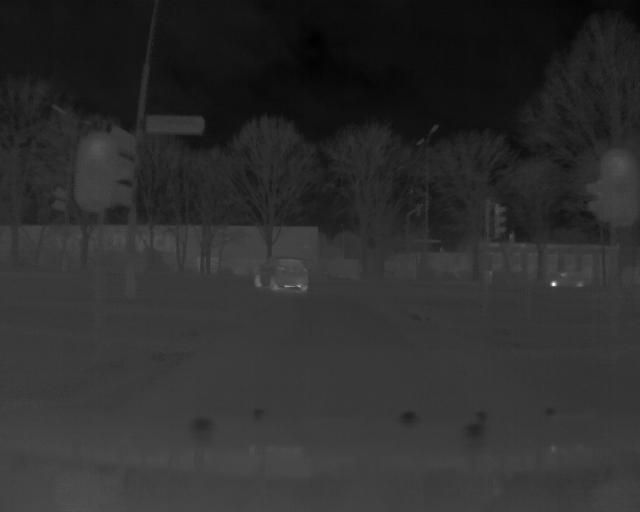car: (251, 256, 311, 293)
